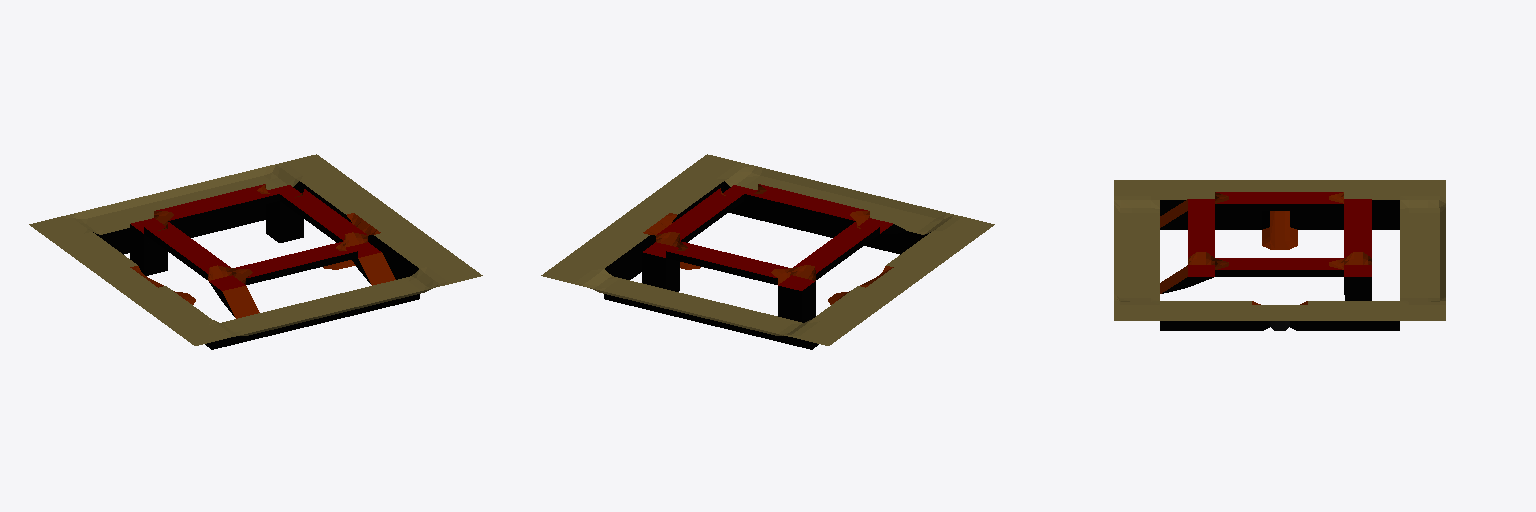
The model's file is arena.obj.
The picture shows the model from 3 angles: view 1: azimuth 30°, elevation 25°; view 2: azimuth 150°, elevation 25°; view 3: azimuth 270°, elevation 25°; orthographic projection.
Visible parts, largest first — view 1: Arena_Plane; view 2: Arena_Plane; view 3: Arena_Plane.
Part boxes in pixels (x1,y1,x2,y2): Arena_Plane: (29, 154, 482, 349); Arena_Plane: (541, 154, 994, 349); Arena_Plane: (1114, 180, 1445, 330).
Bounding box in the file's own units: 395 × 65 × 395.